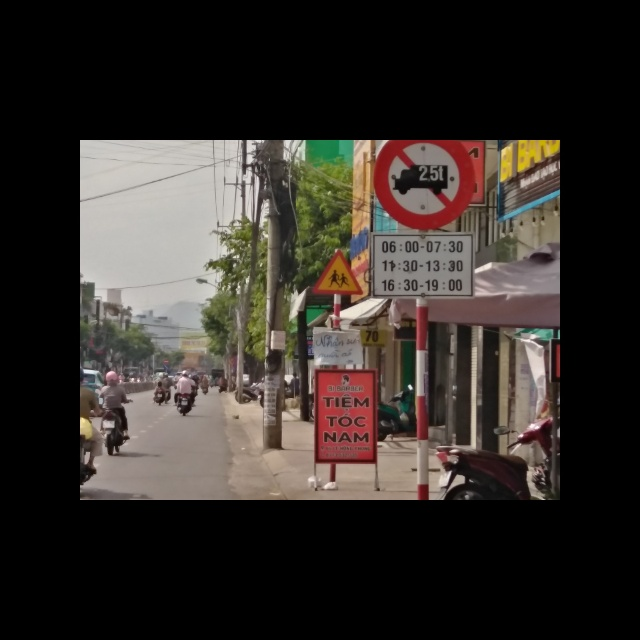Cấm xe tải: (371, 140, 479, 234)
Trẻ em ngang qua: (312, 250, 365, 297)
